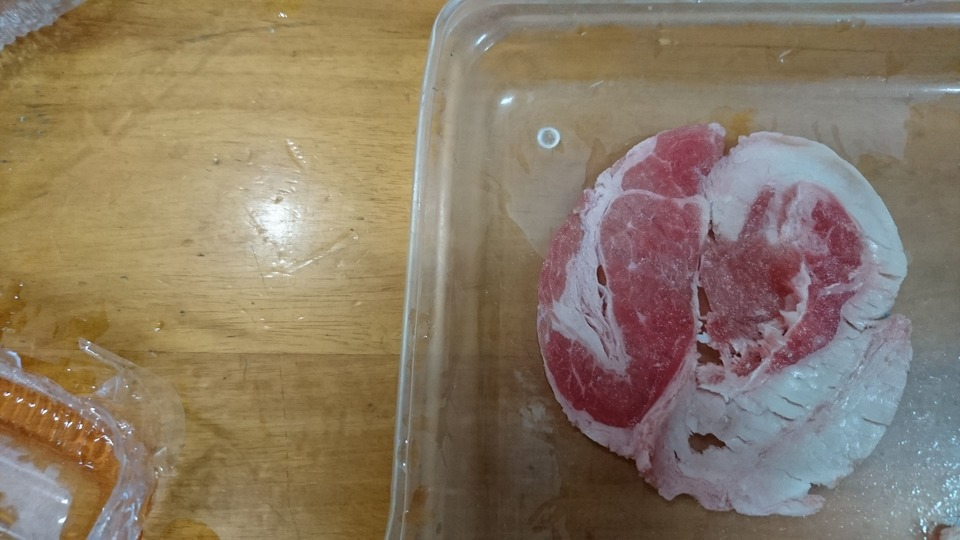restructured meat: (537, 124, 914, 516)
